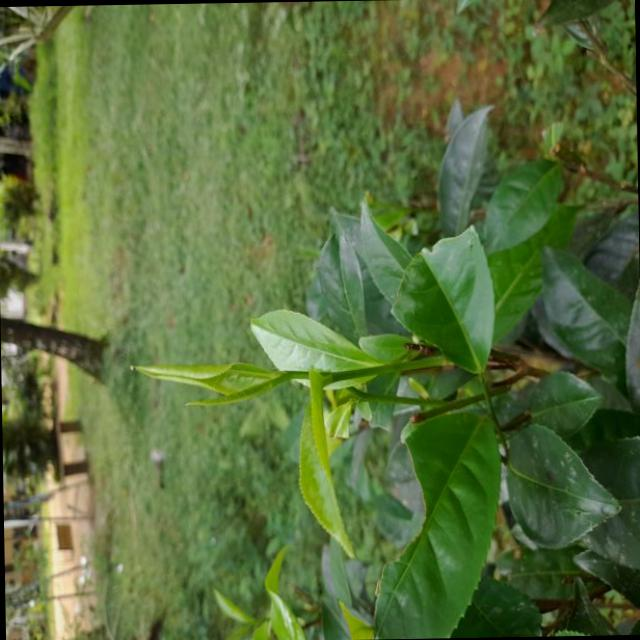Stem: (332, 371, 343, 380)
